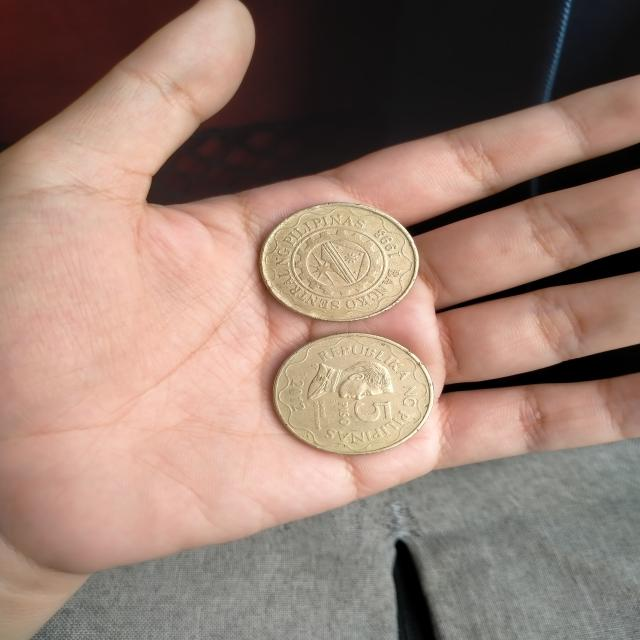5_Old_Back: (262, 202, 428, 324)
5_Old_Front: (332, 392, 402, 434)
